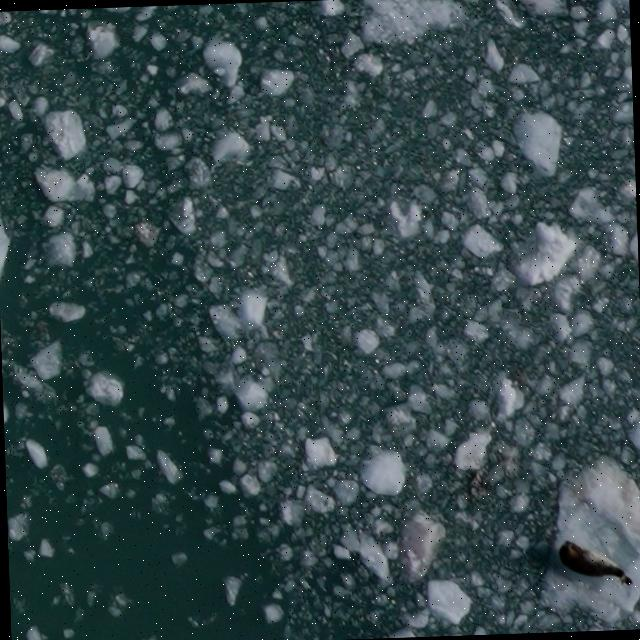seal: (552, 532, 637, 590)
